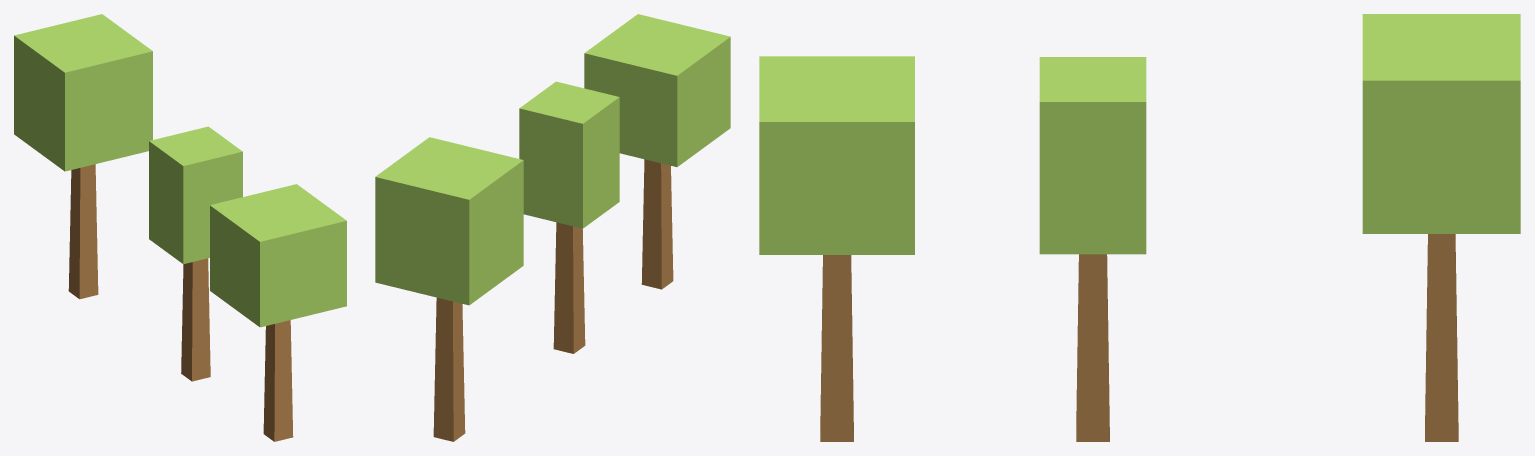
The model's file is trees.fbx.
3 renders of one model, left to right at view 1: azimuth 30°, elevation 25°; view 2: azimuth 150°, elevation 25°; view 3: azimuth 270°, elevation 25°, orthographic. The views are drawn at different scales.
Parts seen in each view (by area): view 1: Cube.004, Cube.002, Cube; view 2: Cube.004, Cube.002, Cube; view 3: Cube.004, Cube.002, Cube.
Part boxes in pixels (x1,y1,x2,y2): Cube.004: [14, 14, 152, 299]; Cube.002: [210, 184, 346, 441]; Cube: [149, 126, 242, 381]; Cube.004: [375, 137, 523, 441]; Cube.002: [584, 14, 730, 289]; Cube: [519, 81, 619, 353]; Cube.004: [1362, 14, 1520, 441]; Cube.002: [759, 56, 914, 441]; Cube: [1039, 57, 1146, 441].
Bounding box in the file's own units: 188 × 509 × 906.
